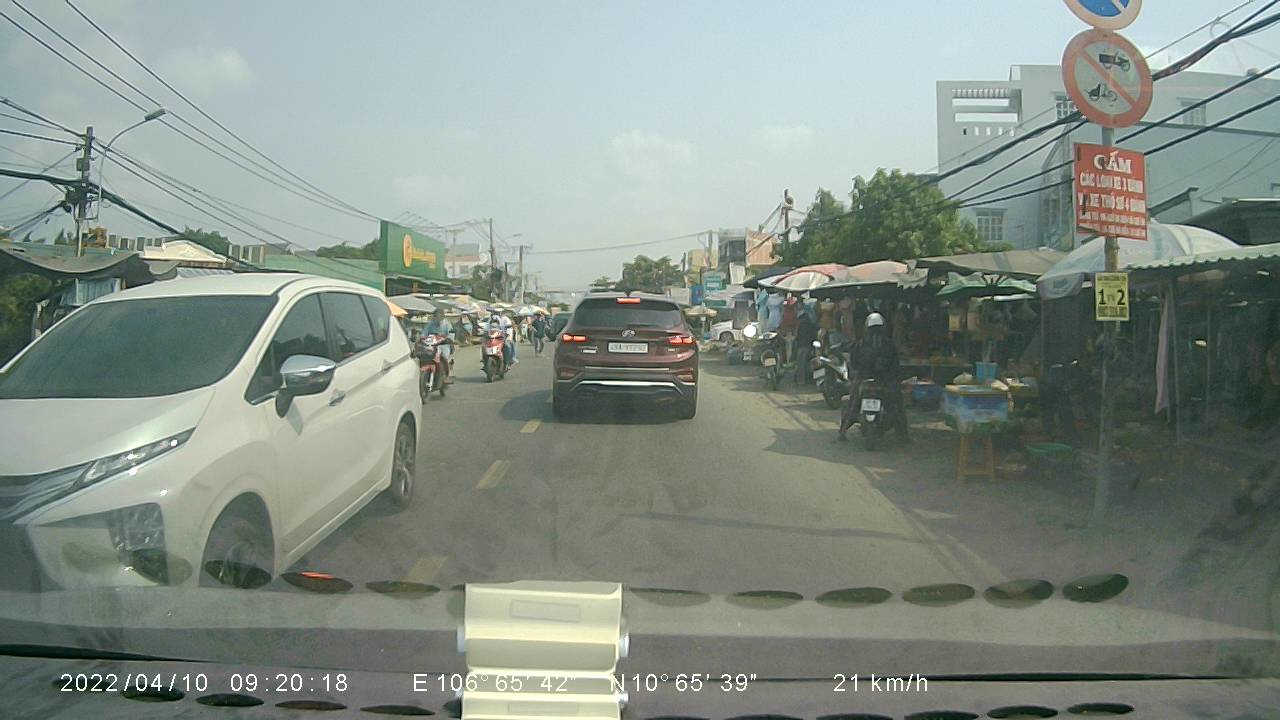Bien khac: (1056, 28, 1152, 126)
